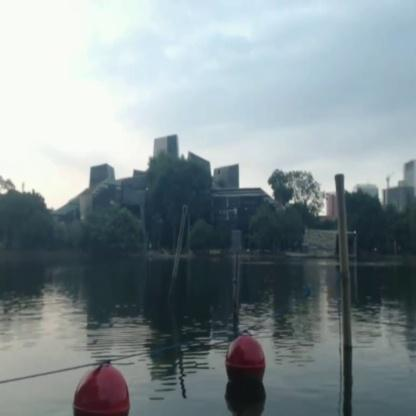red_buoy: (74, 367, 132, 415), (226, 336, 264, 386)
